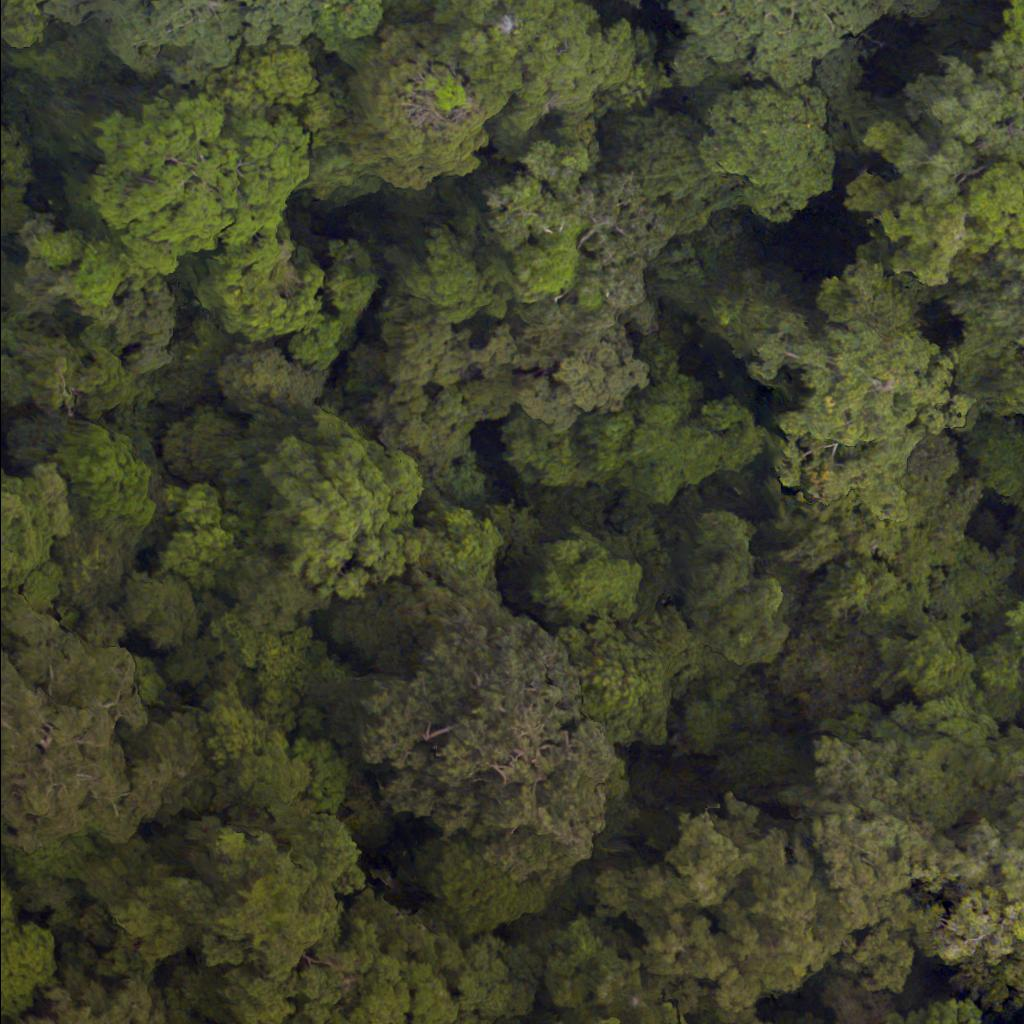crown: (617, 814, 849, 1023), (189, 846, 357, 975), (536, 915, 707, 1023), (915, 858, 1023, 1013), (417, 846, 540, 932), (111, 868, 218, 964), (326, 959, 462, 1023), (23, 968, 152, 1023), (452, 941, 546, 1011), (0, 921, 56, 1015)
